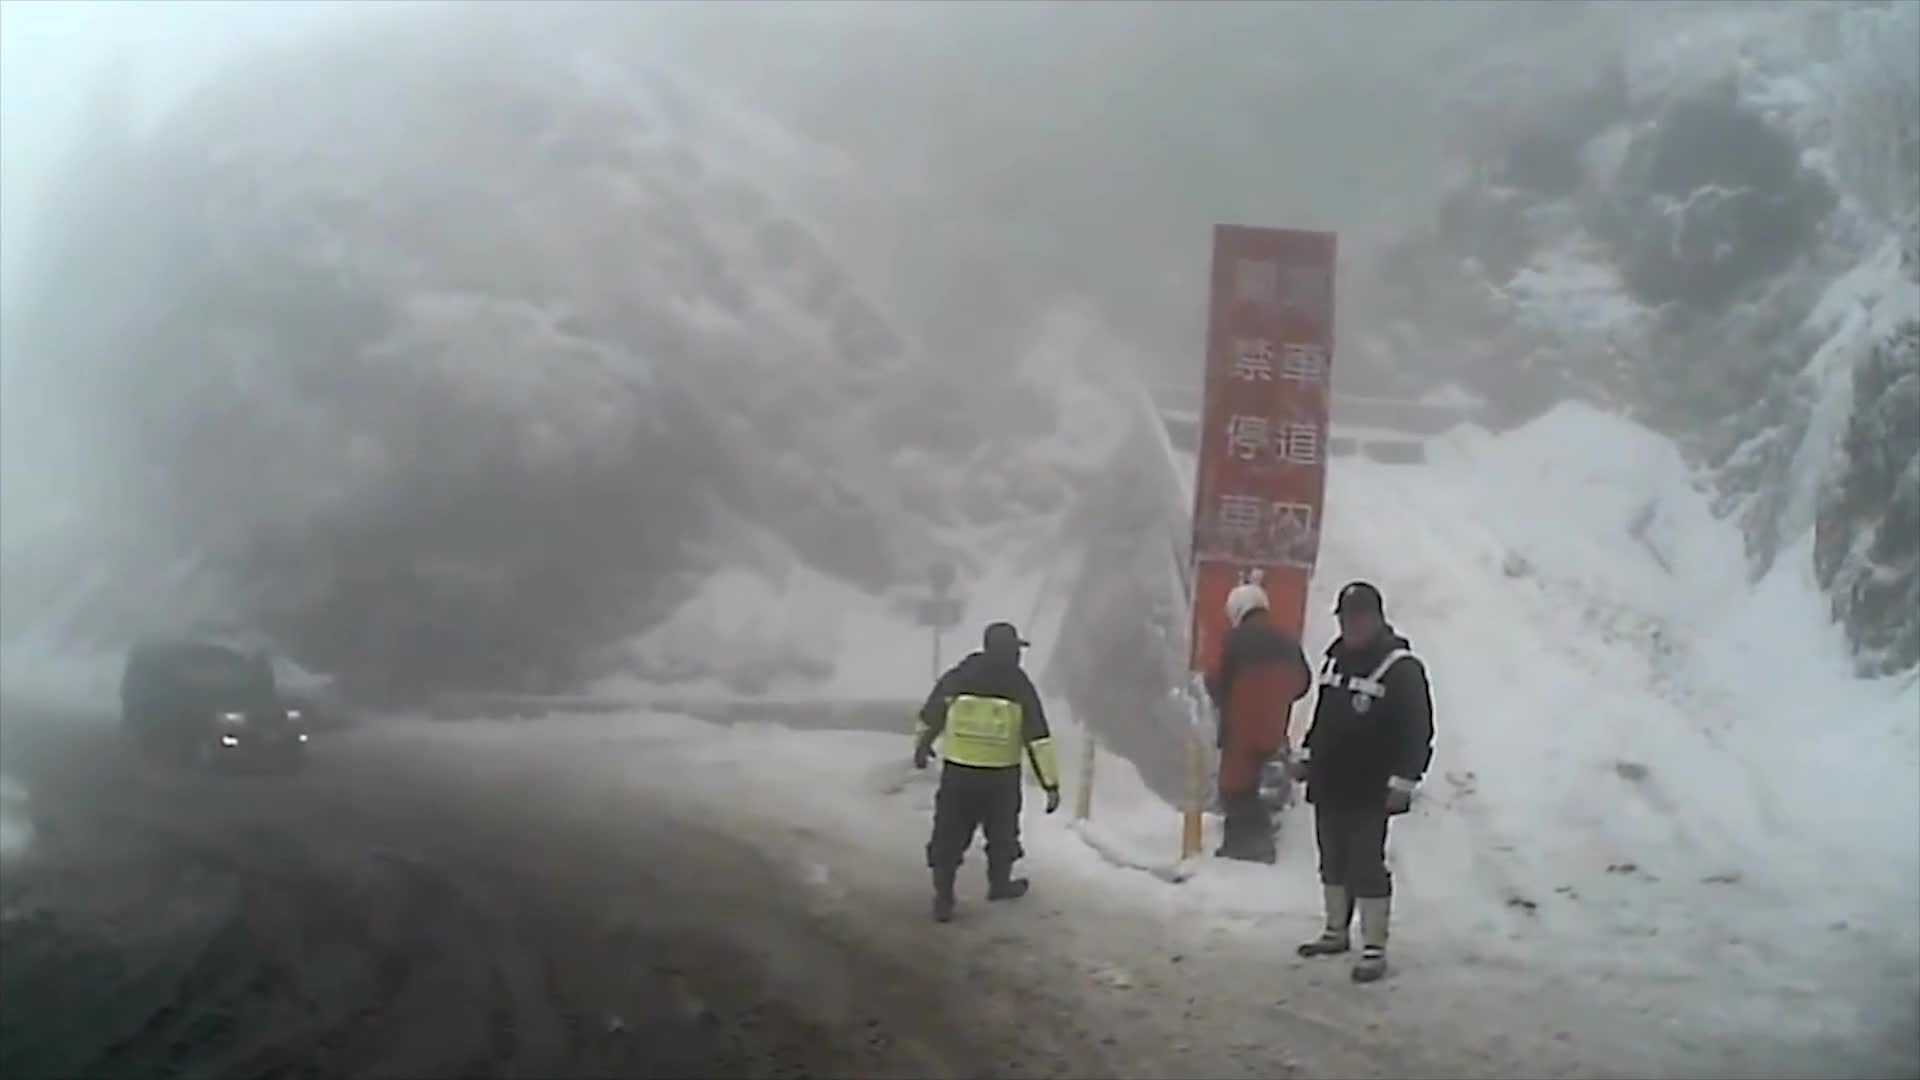pedestrian: (1293, 584, 1429, 992), (908, 621, 1065, 918), (1196, 590, 1310, 857)
vehicle: (119, 633, 308, 771)
